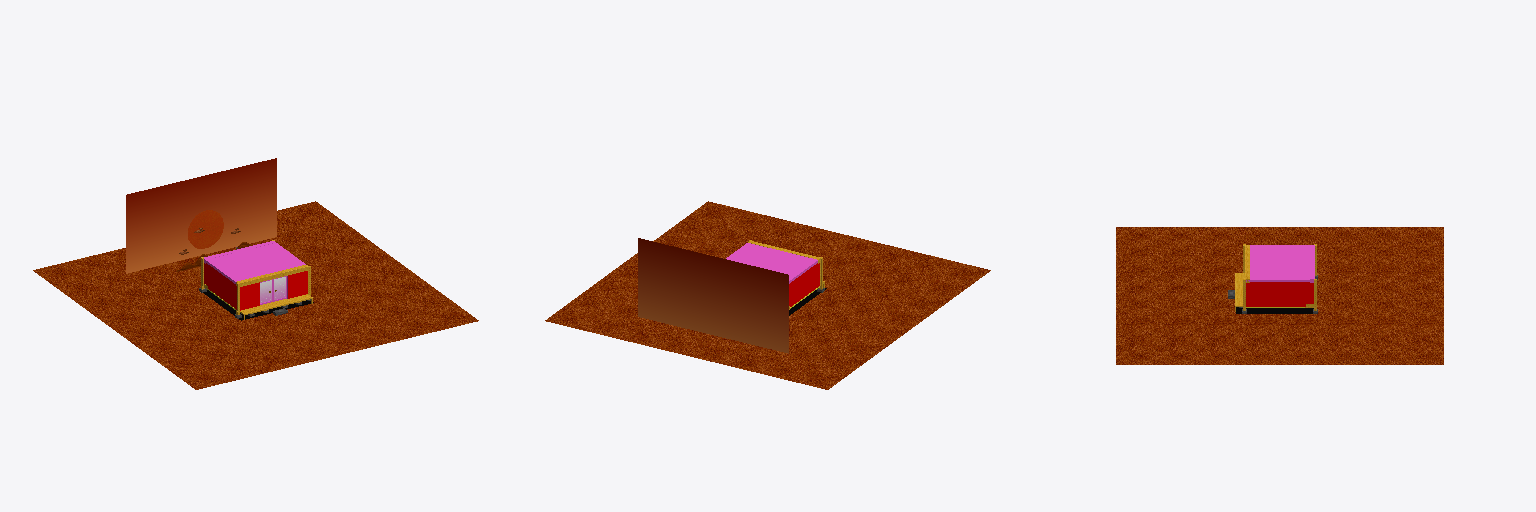
3 renders of one model, left to right at view 1: azimuth 30°, elevation 25°; view 2: azimuth 150°, elevation 25°; view 3: azimuth 270°, elevation 25°, orthographic.
Parts seen in each view (by area): view 1: mesh0_mesh0.001, mesh87, mesh89; view 2: mesh0_mesh0.001, mesh87; view 3: mesh0_mesh0.001.
Boxes of the visible parts, <box> form: mesh0_mesh0.001: <box>33,201,478,389</box>; mesh87: <box>126,158,276,273</box>; mesh89: <box>188,210,223,248</box>; mesh0_mesh0.001: <box>545,201,990,389</box>; mesh87: <box>638,238,788,353</box>; mesh0_mesh0.001: <box>1116,227,1443,364</box>.
Size of the model in its own units: 300 by 80.3 by 300.
Materials: 26 (23 with a texture image).